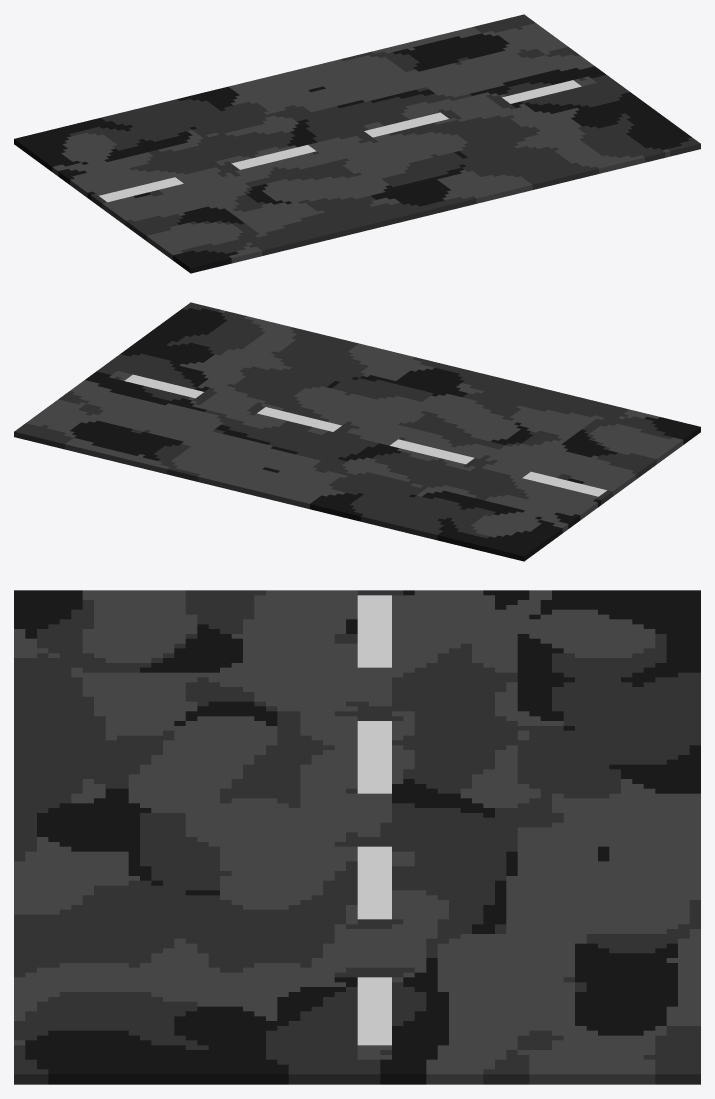
File: Road.obj
The picture shows the model from 3 angles, top to bottom: view 1: azimuth 30°, elevation 25°; view 2: azimuth 150°, elevation 25°; view 3: azimuth 270°, elevation 25°; orthographic projection. The views are drawn at different scales.
Size of the model in its own units: 10 by 0.1 by 6.
Materials: 1 (1 with a texture image).
